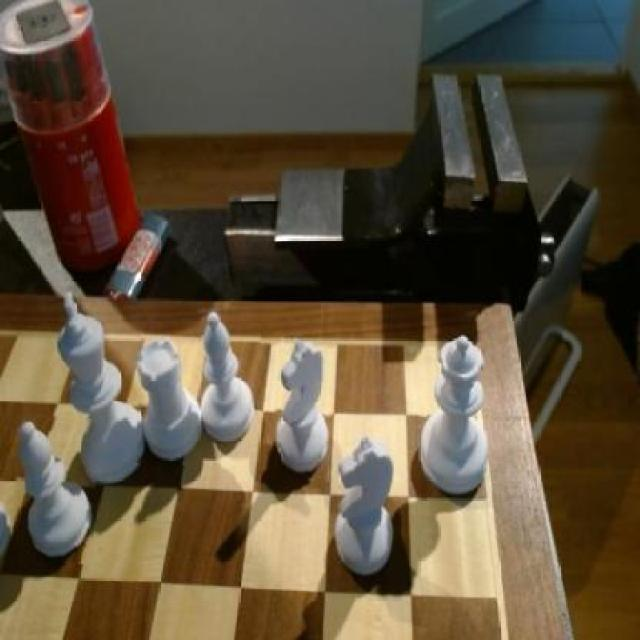black-rook: (15, 415, 100, 564), (200, 304, 260, 448)
white-king: (418, 335, 492, 511), (335, 434, 400, 581), (272, 338, 333, 481)
white-queen: (137, 336, 201, 466)
